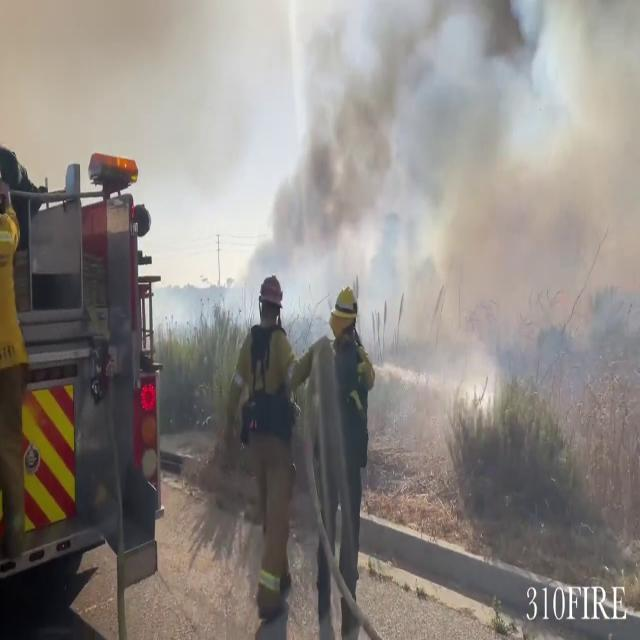Smoke: (291, 0, 640, 425)
